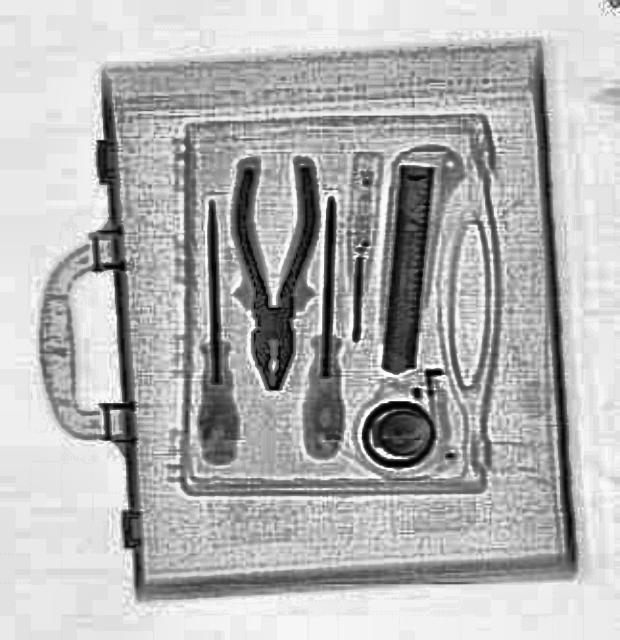Pliers: (232, 164, 316, 388)
